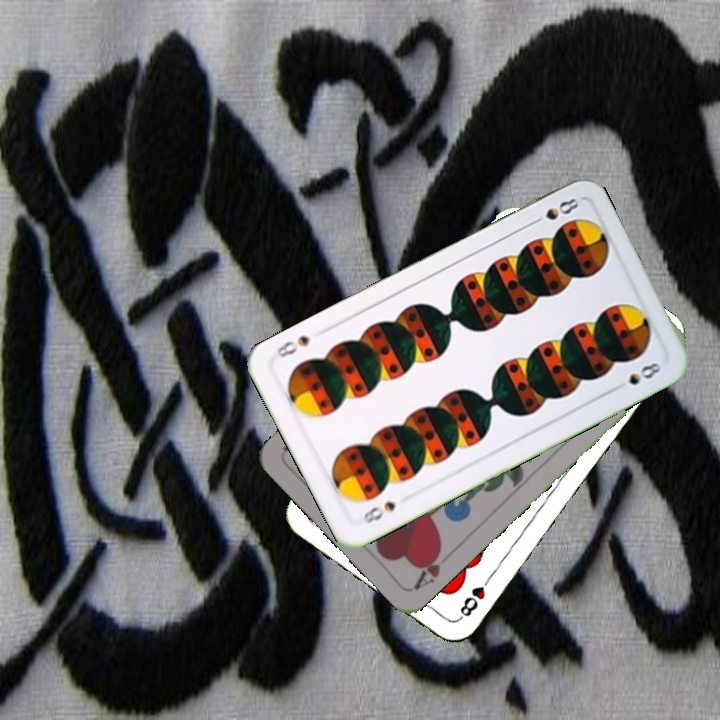H8: (455, 571, 495, 623)
HA: (409, 541, 445, 593)
S8: (526, 194, 582, 229), (359, 497, 399, 527)
